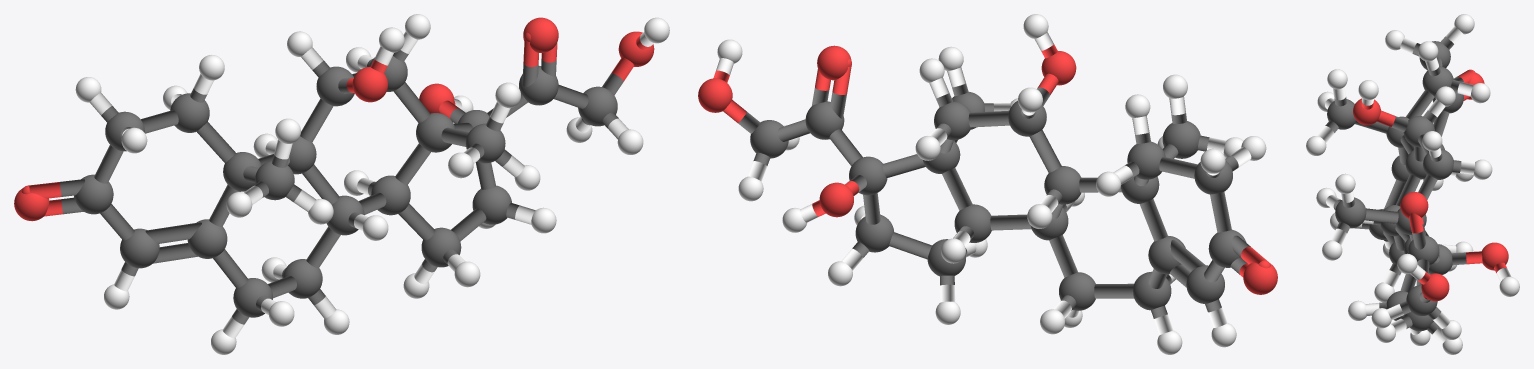
The model's file is cortisol.glb.
3 views of the same model, side by side, from view 1: azimuth 30°, elevation 25°; view 2: azimuth 150°, elevation 25°; view 3: azimuth 270°, elevation 25° (orthographic). The views are drawn at different scales.
Parts seen in each view (by area): view 1: cortisol; view 2: cortisol; view 3: cortisol.
Boxes of the visible parts, x1=… form: cortisol: x1=14, y1=14, x2=669, y2=354; cortisol: x1=698, y1=14, x2=1277, y2=354; cortisol: x1=1306, y1=14, x2=1519, y2=354.
Size of the model in its own units: 13.92 by 6.66 by 5.33.
